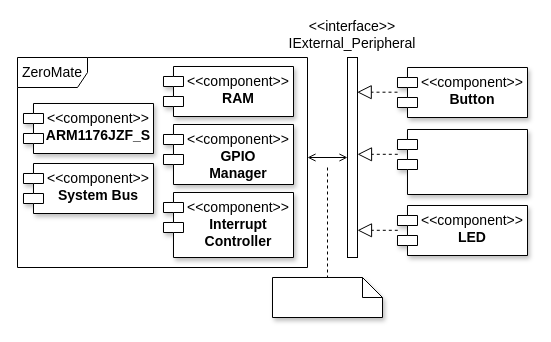
Some shapes in this 551 by 342 pixel diagram are drawn without their labels. Here are the shapes that lost their labels. From the top down, the centre of each, then its label:
the point at 463,163: <<component>> 7-segment display
the point at 328,298: Access to GPIO pins
